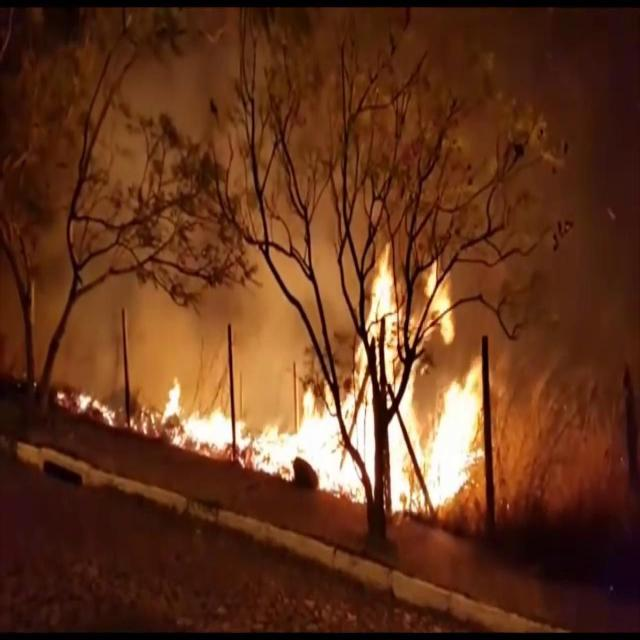Fire: (148, 240, 492, 500), (79, 391, 117, 426)
